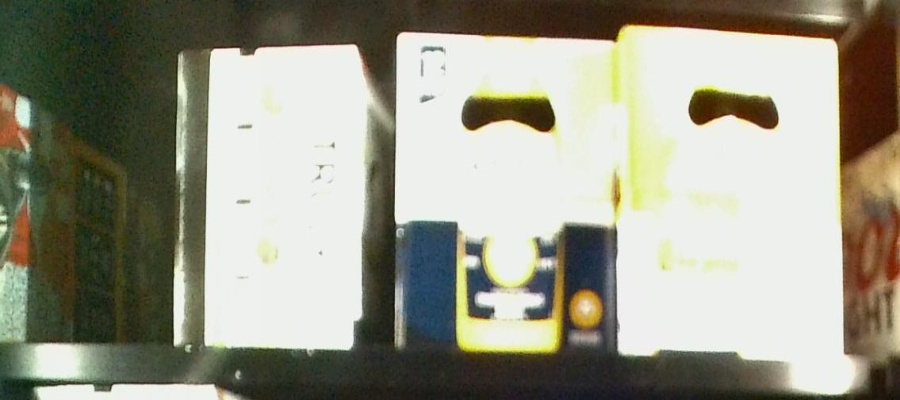bottle: (621, 25, 841, 359), (396, 32, 616, 346), (174, 45, 390, 344)
